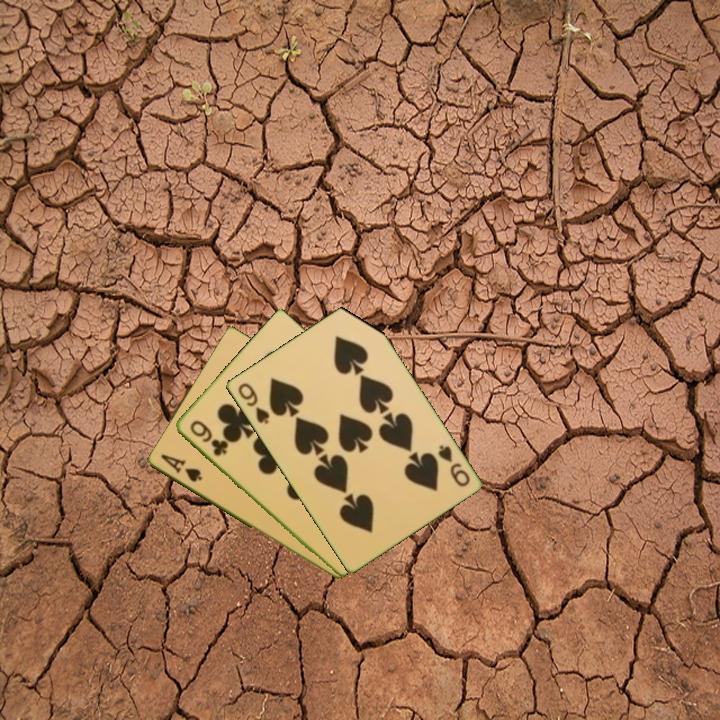9c: (186, 417, 230, 459)
9s: (434, 441, 472, 490), (234, 379, 272, 427)
As: (157, 450, 205, 485)
